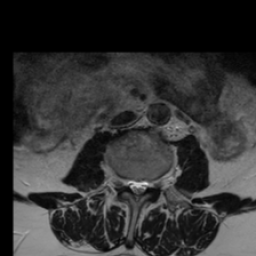CCS_normal: (134, 170, 141, 208)
LFS_normal: (149, 170, 157, 196)
LLS_normal: (141, 171, 149, 199)
RFS_normal: (118, 167, 126, 196)
RLS_normal: (126, 170, 134, 198)
